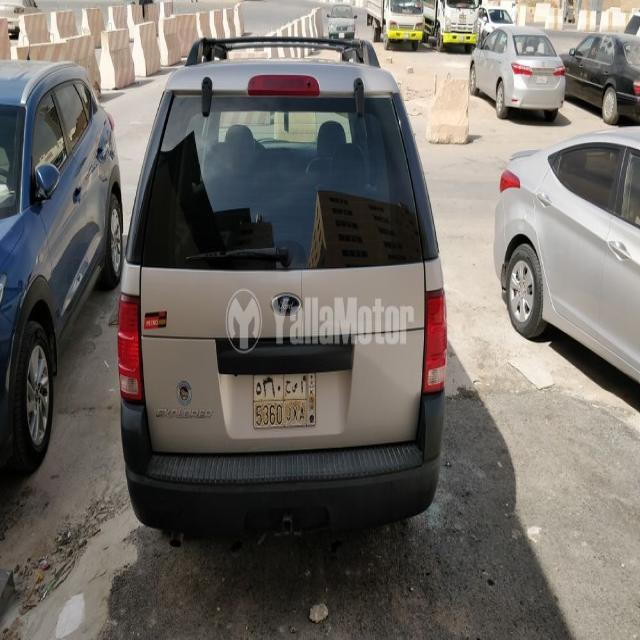license_plate: (251, 368, 317, 432)
